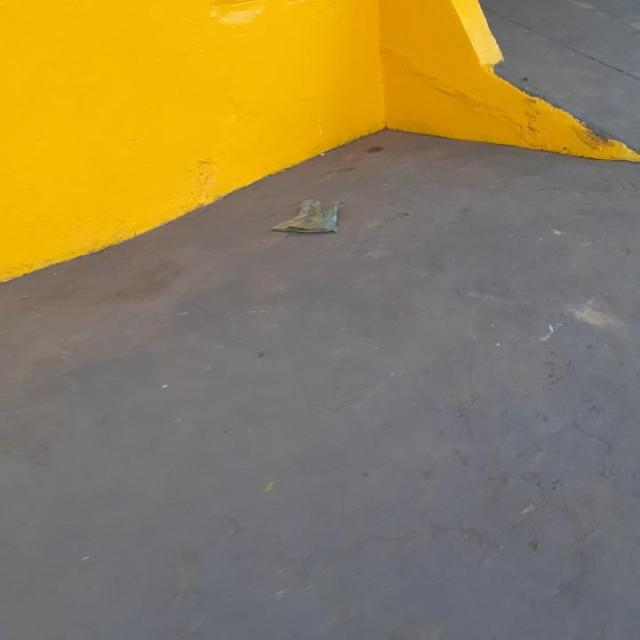litter: (272, 199, 341, 234)
